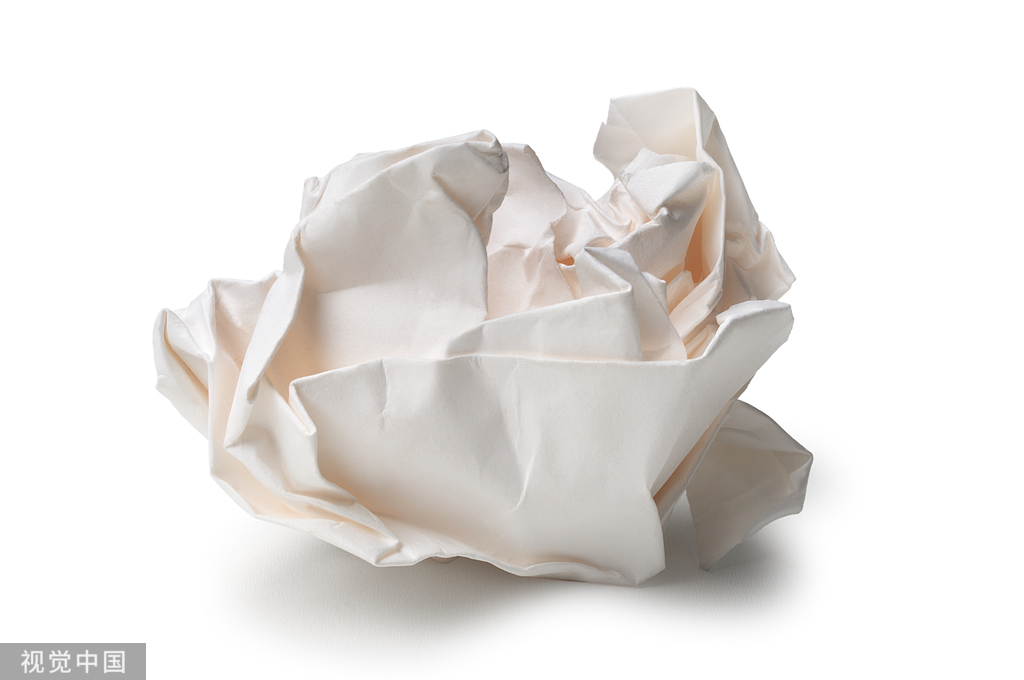Paper: (152, 87, 815, 586)
